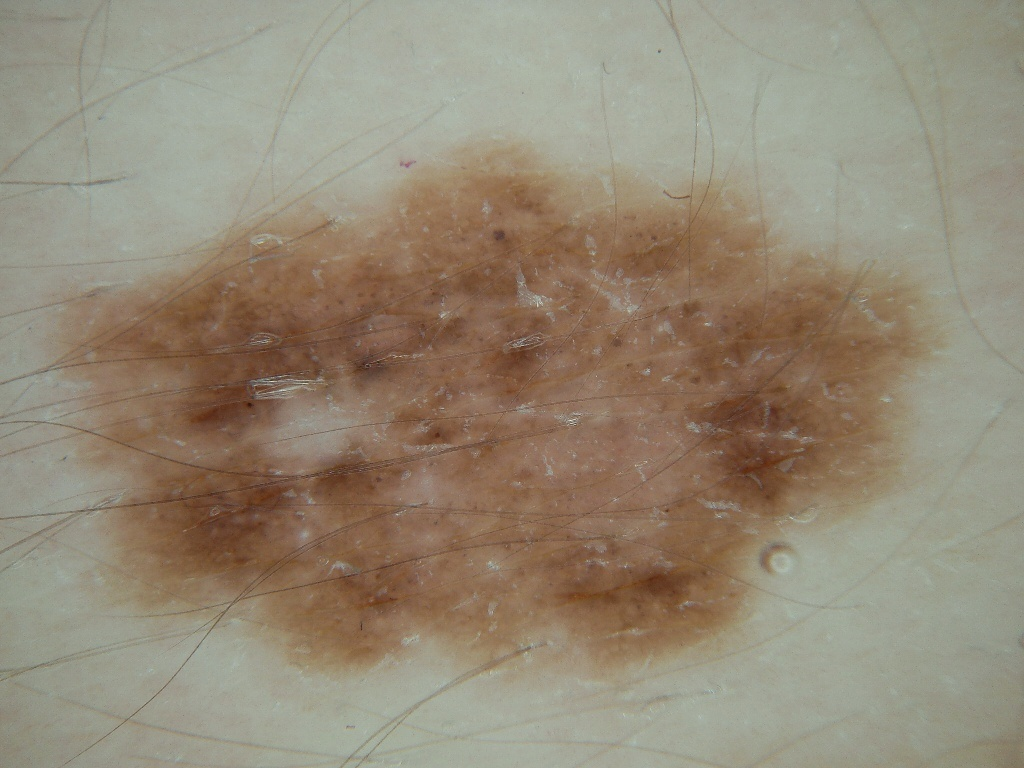Detected Lesion: (46, 132, 943, 691)
